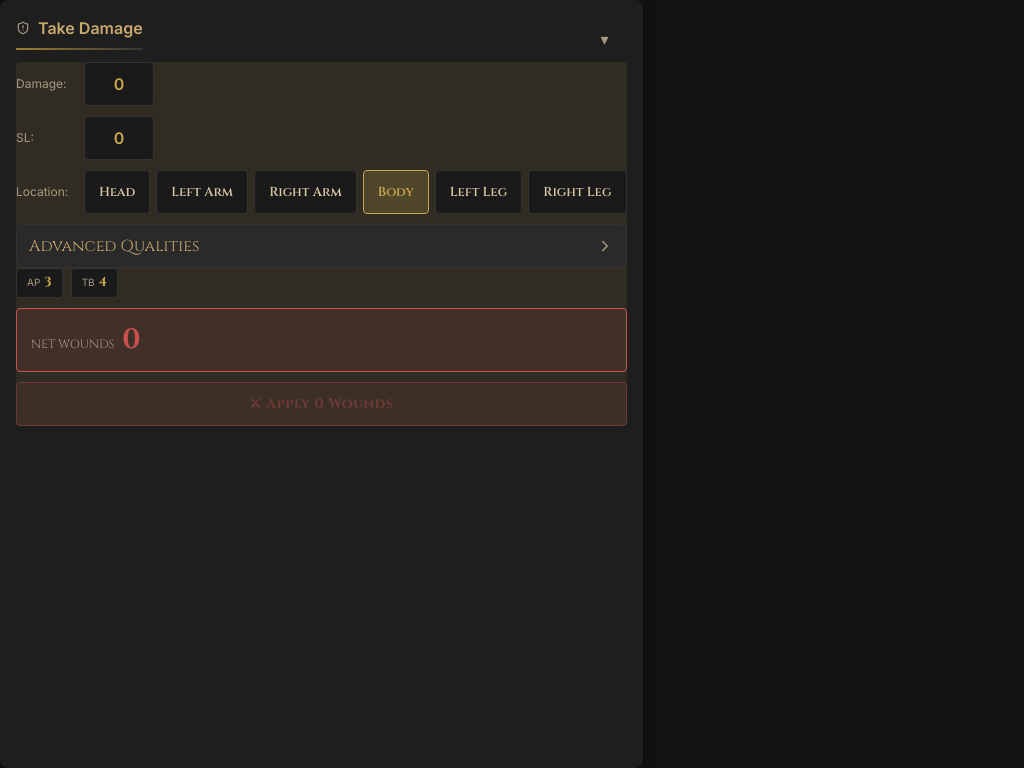
Test: TakeDamagePanel — net wounds display › updates net wounds when location changes
Replace the text in the number field named "Incoming damage" with "10" at (119,84), box [84,62,154,106]
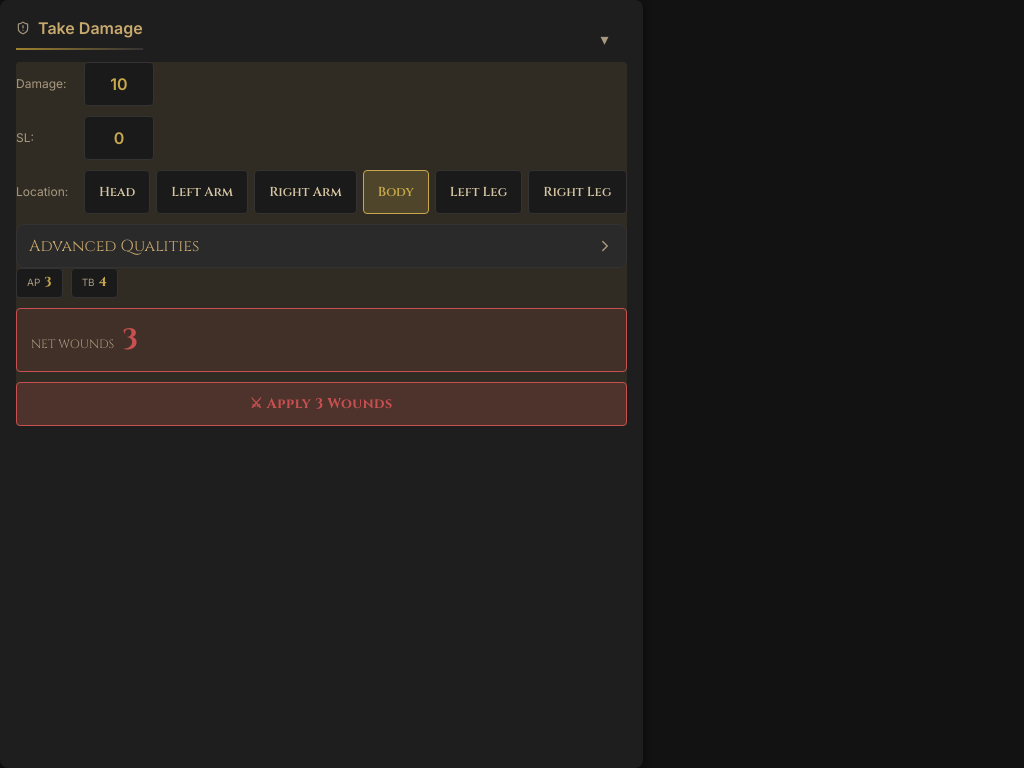
Expected: the button with test id "net-wounds" reads "3", [122,318,138,360]
Click the radio button labelled "Left Leg" at (478,192), box [435,170,522,214]
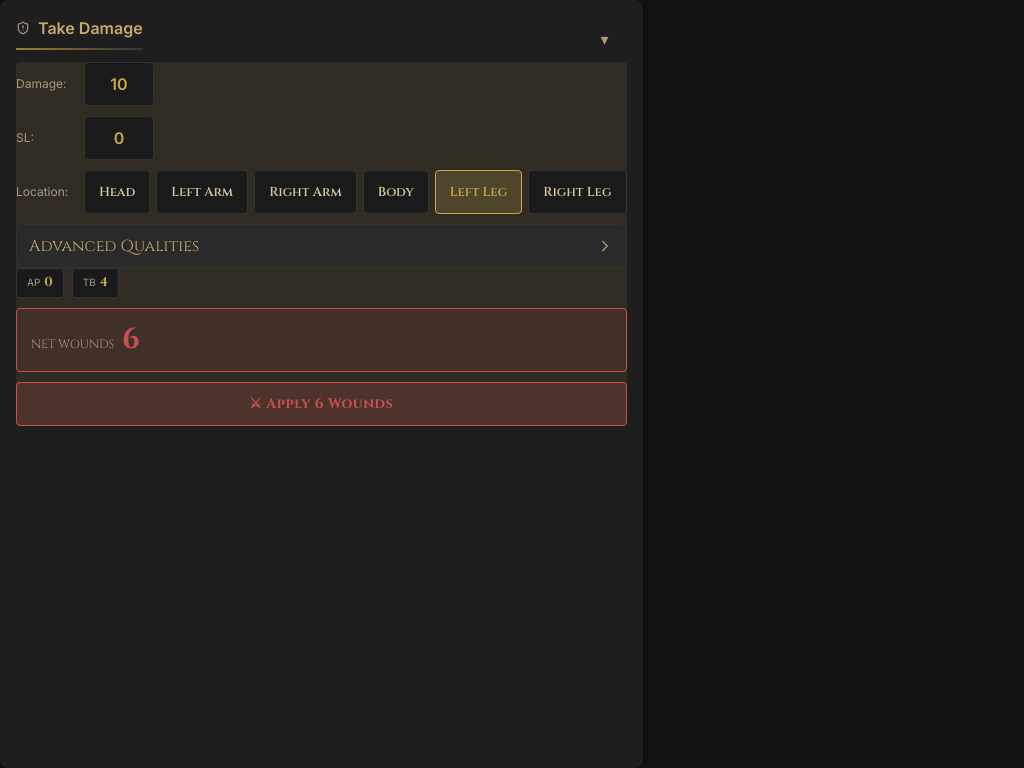
Expected: the button with test id "net-wounds" reads "6", [122,318,140,360]
